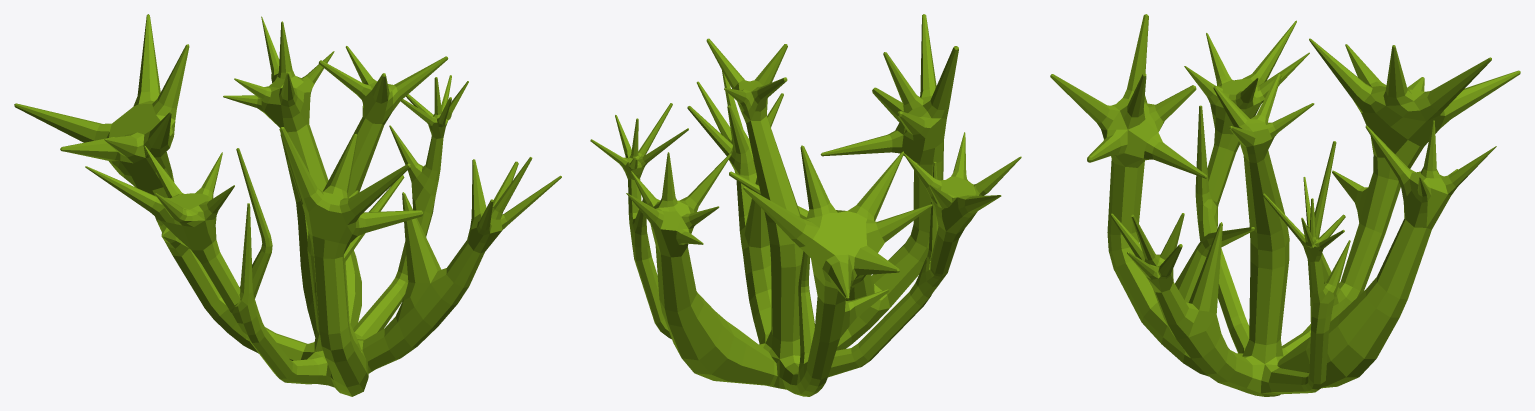
Rendered from tree-summer-leaves-031.glb.
The picture shows the model from 3 angles, left to right: view 1: azimuth 30°, elevation 25°; view 2: azimuth 150°, elevation 25°; view 3: azimuth 270°, elevation 25°; orthographic projection.
Visible parts, largest first — view 1: Plane.010_262; view 2: Plane.010_262; view 3: Plane.010_262.
Part boxes in pixels (x1,y1,x2,y2): Plane.010_262: (14,14,561,396); Plane.010_262: (590,14,1021,396); Plane.010_262: (1050,14,1520,396).
Bounding box in the file's own units: 1.14 × 0.8953 × 1.19.
